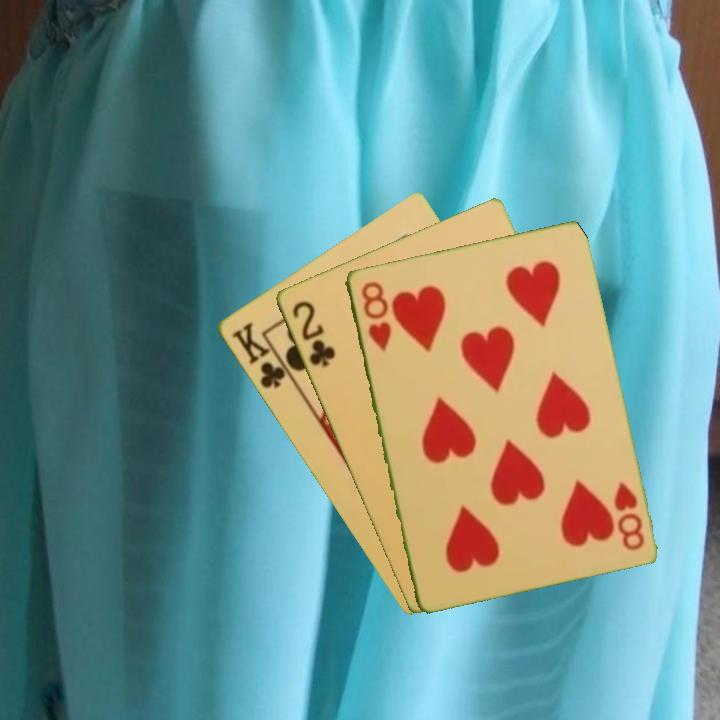2c: (287, 297, 338, 370)
8h: (357, 277, 394, 354), (610, 478, 647, 553)
Kc: (228, 318, 295, 392)
